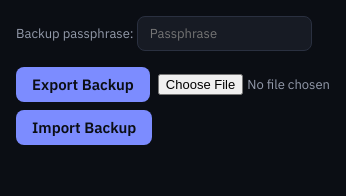
Test: BackupPanel UI › import with tampered file shows tampered error
Type "pass" into the password field with placeholder "passphrase" at (224,34), box [137,16,312,51]
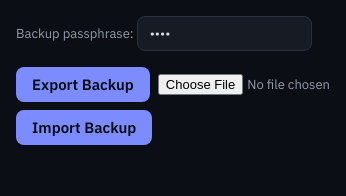
Click the button "Import Backup" at (84,128), box [16,110,152,145]
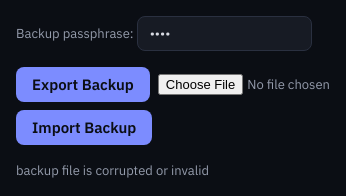
Now the text "backup file is corrupted or invalid" is shown, box [16,162,209,179]
